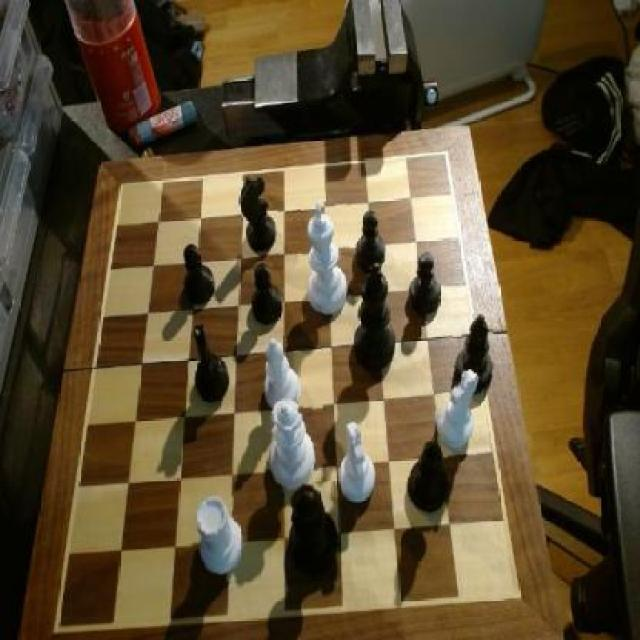bishop: (454, 314, 496, 393), (408, 437, 448, 515)
black-bishop: (354, 263, 400, 374)
black-king: (189, 323, 234, 404), (237, 175, 279, 258)
black-knight: (406, 254, 445, 321), (250, 263, 286, 327), (180, 243, 216, 306), (357, 209, 388, 271)
black-pawn: (289, 481, 339, 577)
black-rook: (263, 335, 304, 413)
white-bishop: (302, 202, 351, 320)
white-king: (435, 368, 481, 454), (335, 418, 378, 506)
white-pawn: (266, 397, 322, 495)
white-queen: (192, 495, 248, 583)
